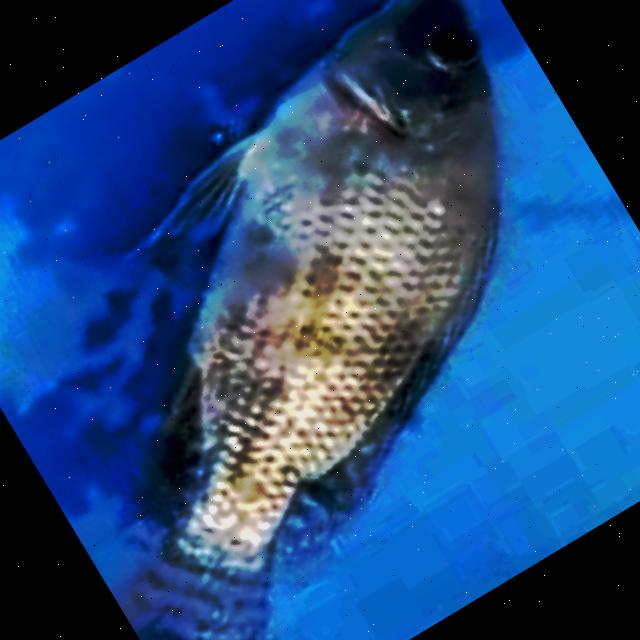Columnaris Disease: (118, 0, 500, 640)
